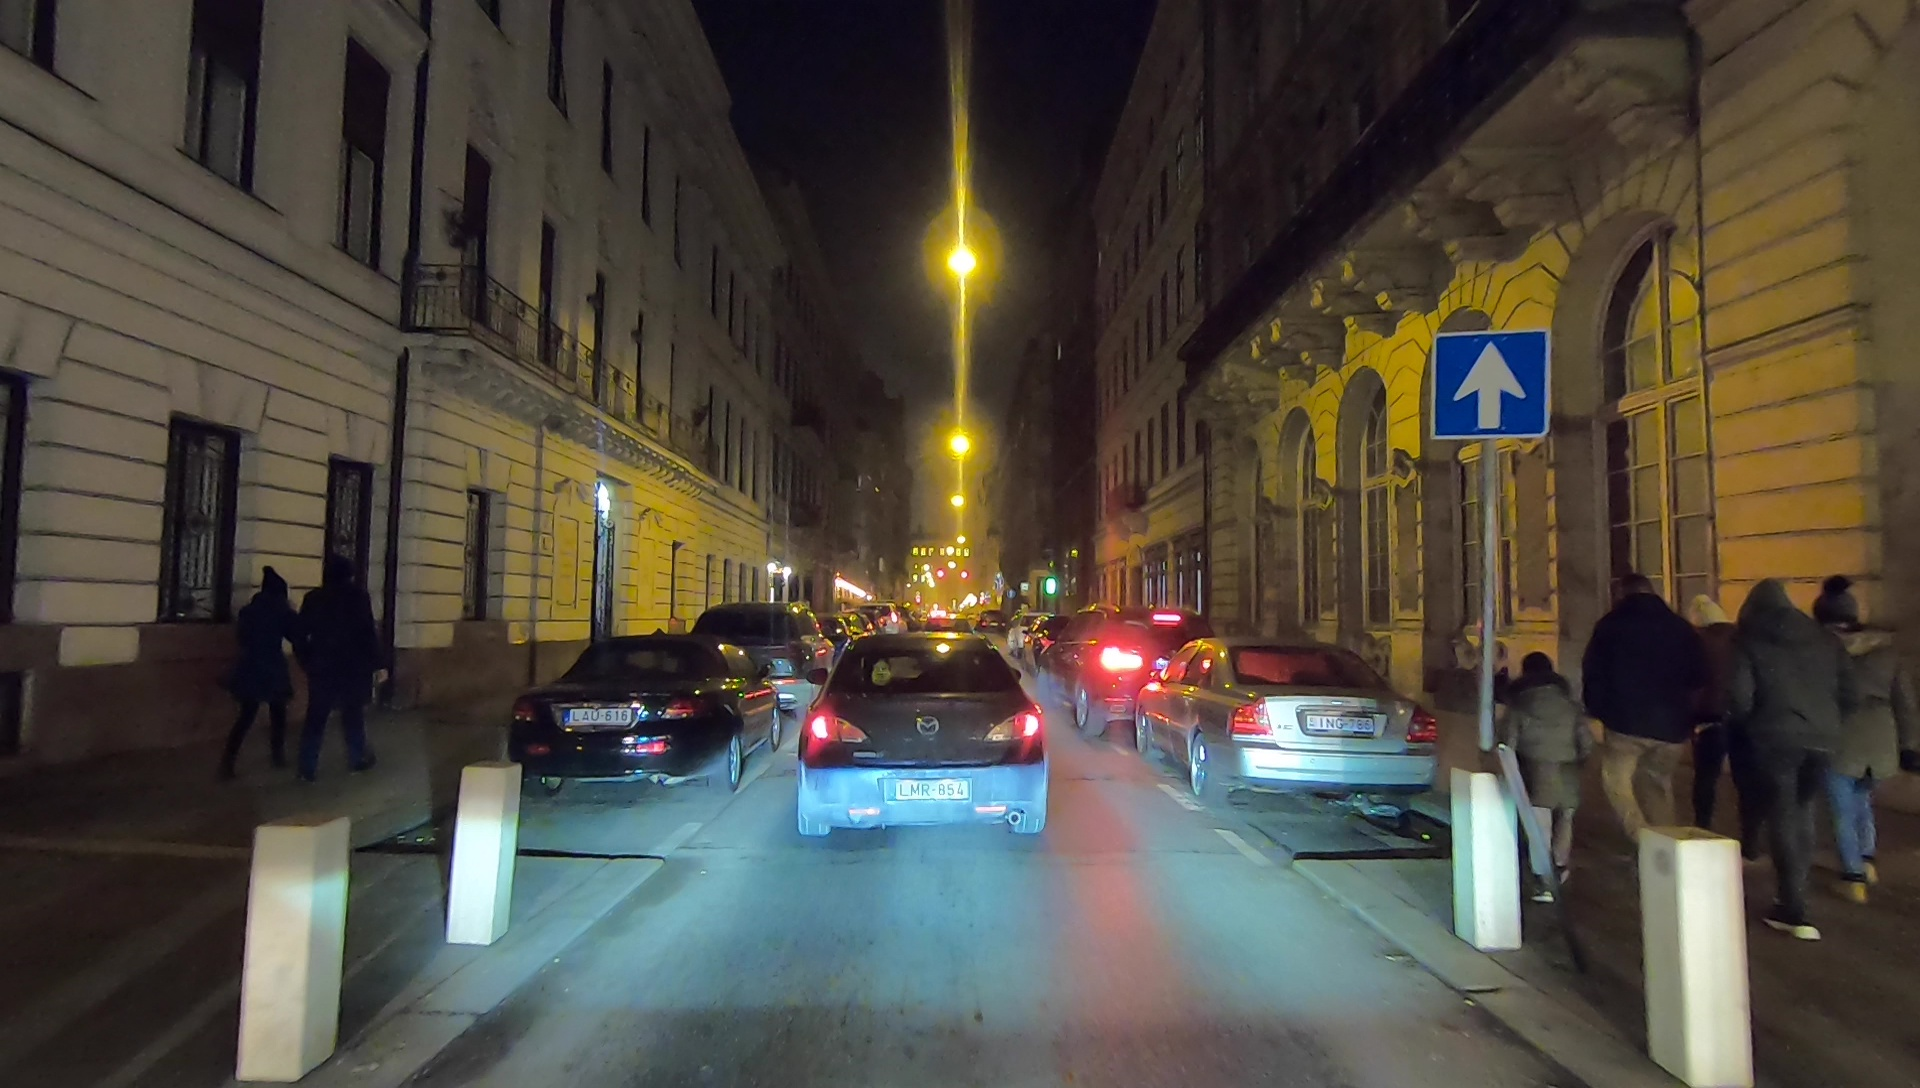person: (1738, 573, 1832, 952), (1806, 563, 1904, 897), (1586, 574, 1688, 858), (1680, 595, 1769, 880), (1497, 656, 1588, 897), (299, 561, 386, 782), (225, 565, 293, 769)
